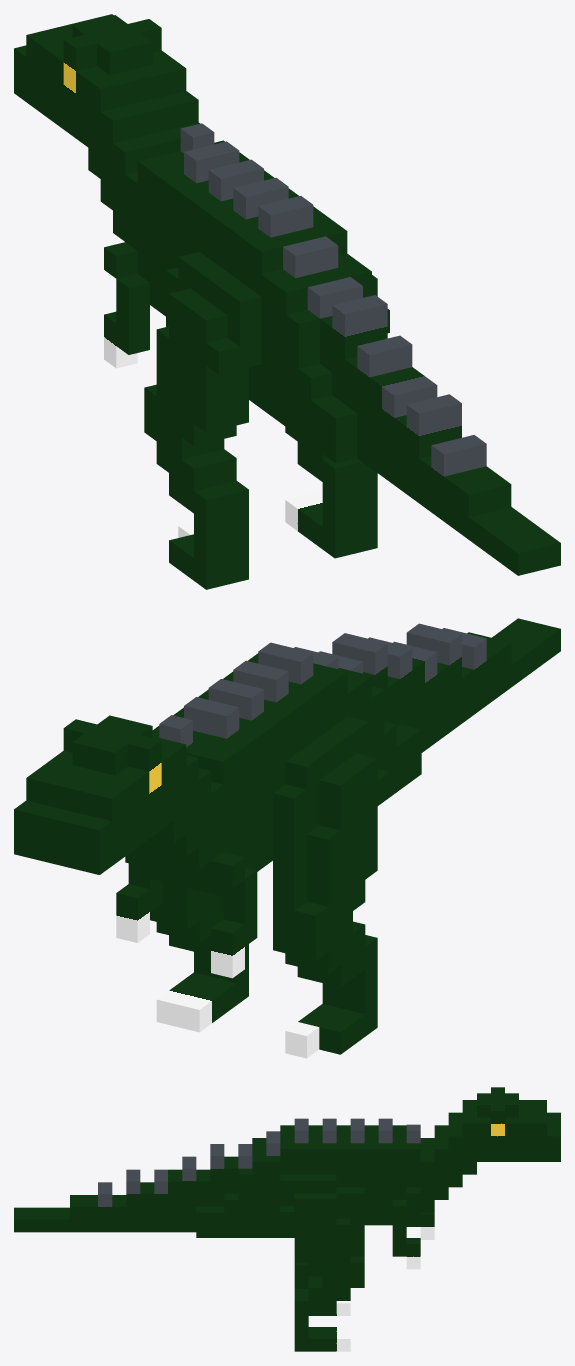
File: 恐龙（低配版）.gltf
3 renders of one model, top to bottom at view 1: azimuth 30°, elevation 25°; view 2: azimuth 150°, elevation 25°; view 3: azimuth 270°, elevation 25°, orthographic. The views are drawn at different scales.
Visible parts, largest first — view 1: Object; view 2: Object; view 3: Object.
Part boxes in pixels (box(x1,y1,x2,y2)): Object: box(14, 14, 560, 589); Object: box(14, 618, 560, 1058); Object: box(14, 1087, 560, 1351).
Size of the model in its own units: 8 by 18 by 39.
1 material, 1 textured.
